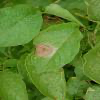Potato leaf late blight: (37, 20, 99, 56)
